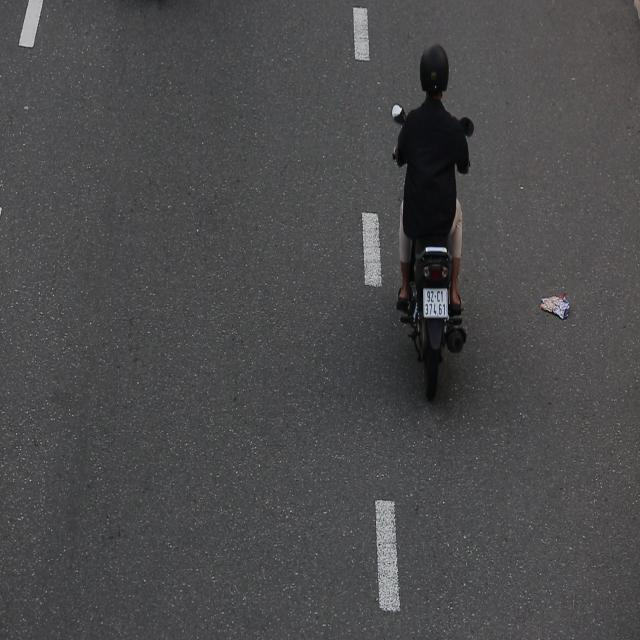motorbike: (386, 33, 490, 396)
